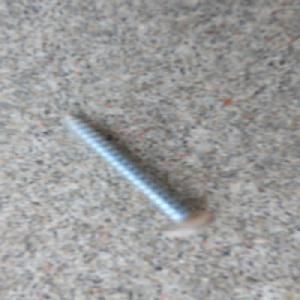Screw: (59, 112, 216, 239)
